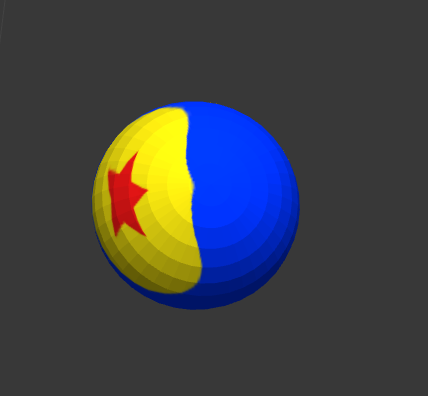toy story ball: (91, 101, 299, 310)
